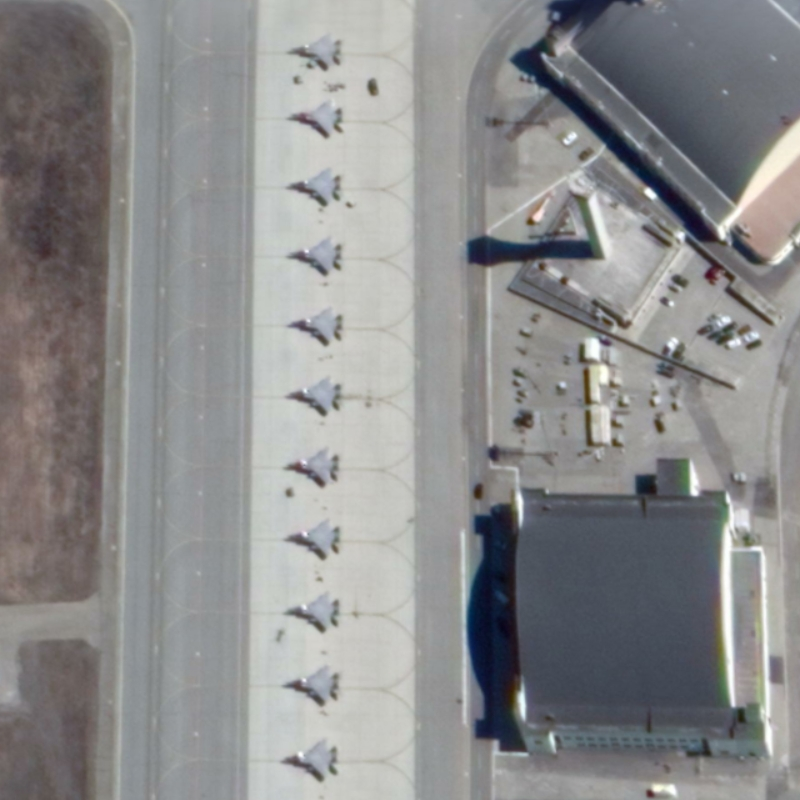A13: (276, 734, 344, 784), (277, 660, 345, 709), (281, 372, 347, 421), (279, 514, 345, 562), (283, 302, 347, 351), (278, 587, 342, 636), (281, 232, 347, 278), (281, 27, 346, 73), (279, 444, 344, 489), (283, 94, 346, 139), (284, 164, 346, 209)
